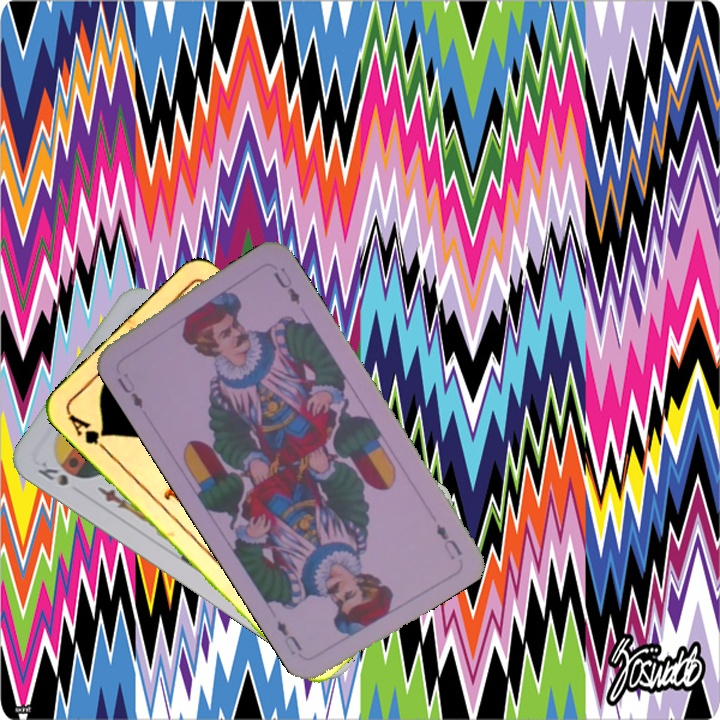EU: (432, 519, 465, 563), (112, 373, 146, 412)
GA: (64, 409, 111, 455)
SK: (33, 457, 71, 489)
